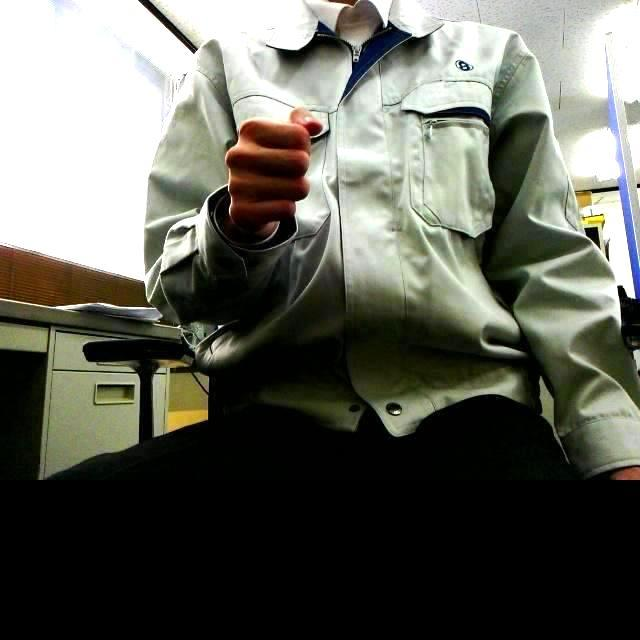gu-: (225, 106, 323, 228)
